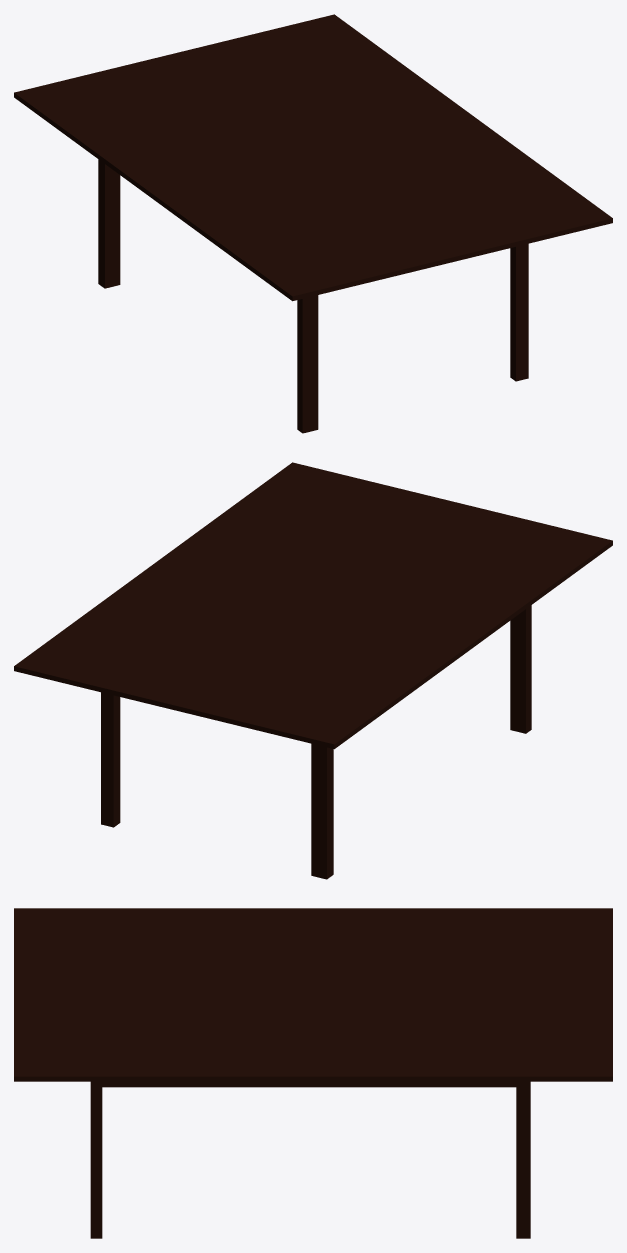
The model's file is Table.obj.
3 renders of one model, top to bottom at view 1: azimuth 30°, elevation 25°; view 2: azimuth 150°, elevation 25°; view 3: azimuth 270°, elevation 25°, orthographic. The views are drawn at different scales.
Visible parts, largest first — view 1: Table_Cube.001; view 2: Table_Cube.001; view 3: Table_Cube.001.
Boxes of the visible parts, bbox=[...] form: Table_Cube.001: bbox=[14, 14, 612, 433]; Table_Cube.001: bbox=[14, 462, 612, 879]; Table_Cube.001: bbox=[14, 908, 612, 1238].
Bounding box in the file's own units: 4.3 × 2.24 × 6.47.
